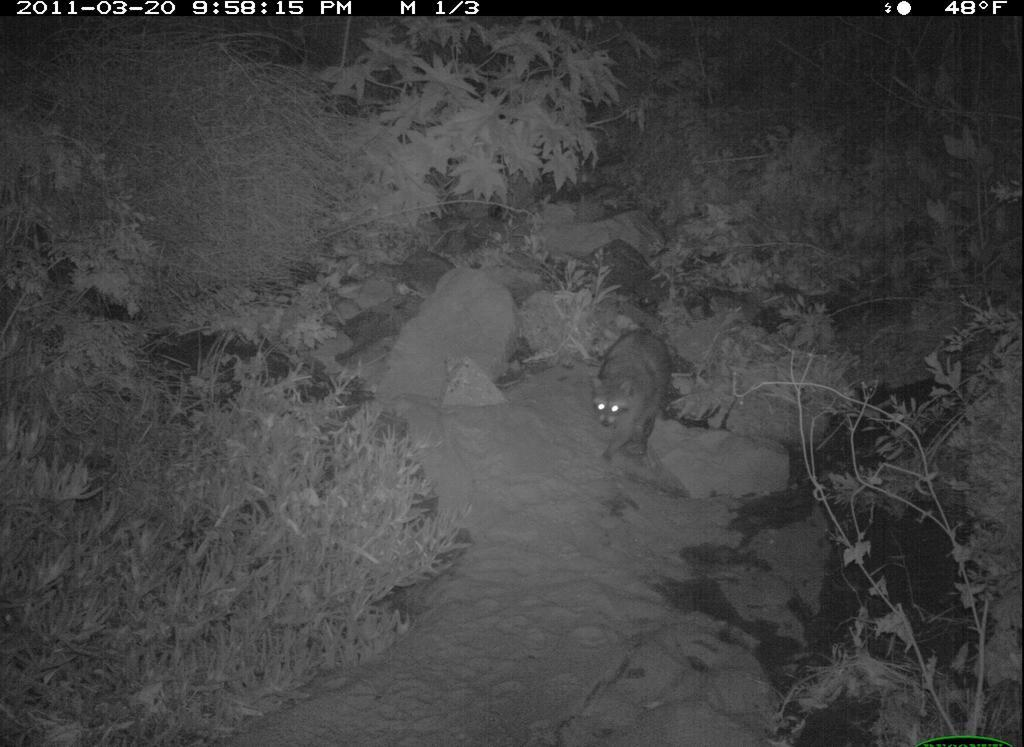raccoon: (582, 327, 681, 472)
